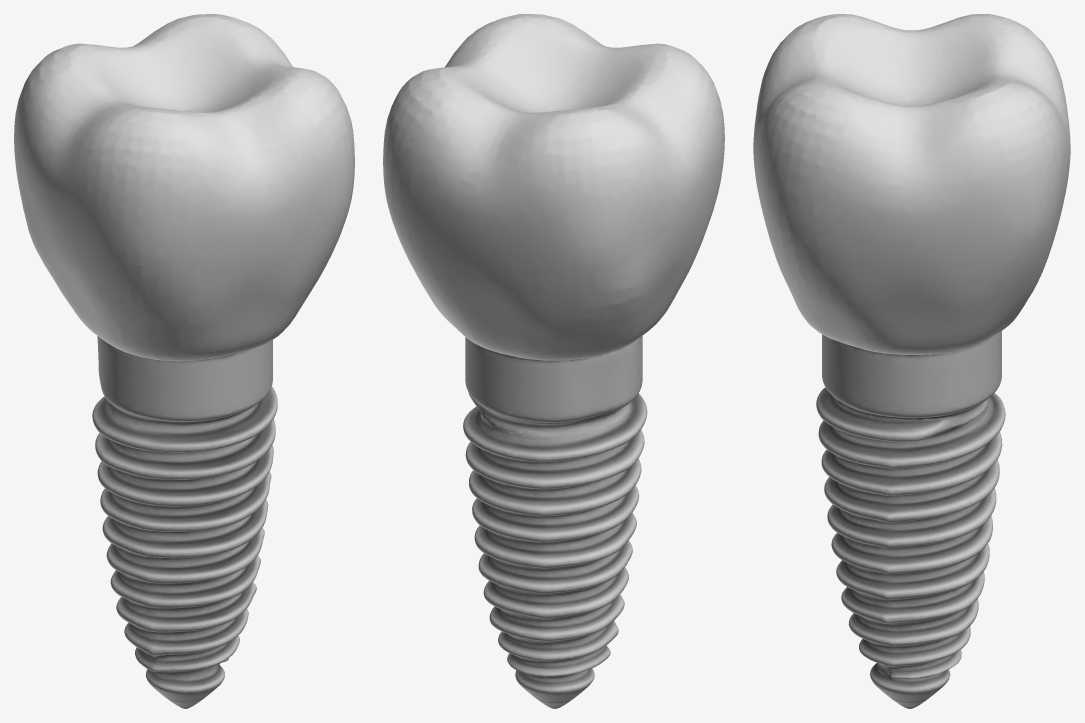
Rendered from teeth.glb.
3 views of the same model, side by side, from view 1: azimuth 30°, elevation 25°; view 2: azimuth 150°, elevation 25°; view 3: azimuth 270°, elevation 25° (orthographic).
Bounding box in the file's own units: 0.8348 × 1.9 × 0.8351.
1 material, 1 textured.
